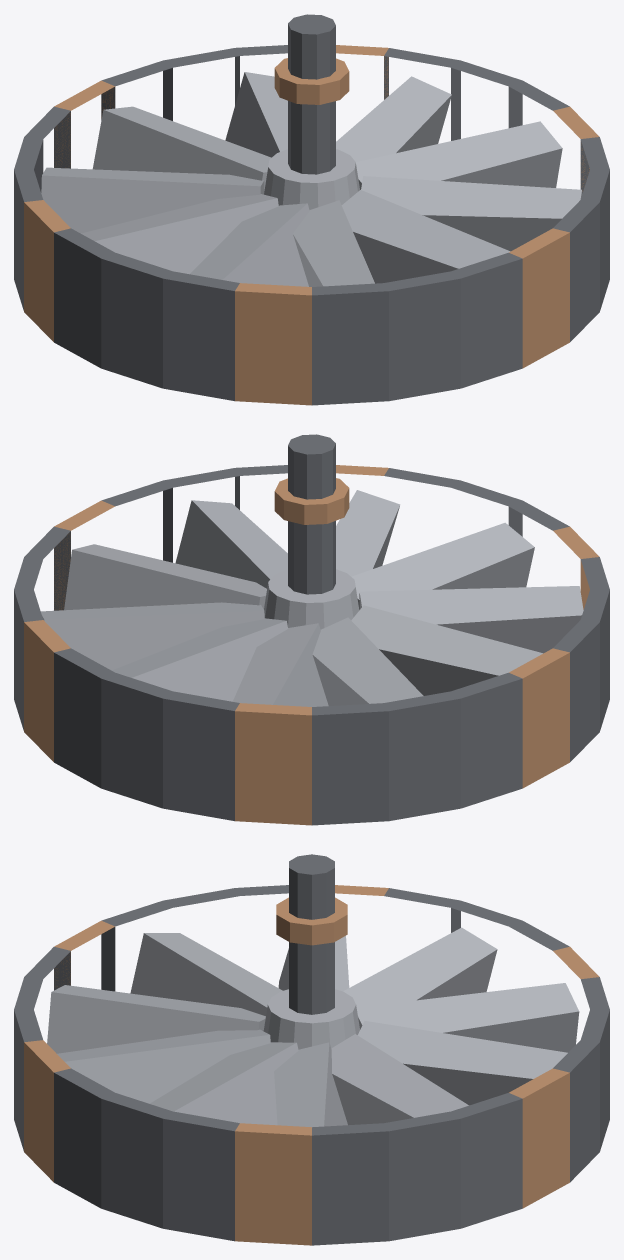
Rendered from spl_turbine.glb.
3 views of the same model, one above another, from view 1: azimuth 30°, elevation 25°; view 2: azimuth 150°, elevation 25°; view 3: azimuth 270°, elevation 25° (orthographic).
Visible parts, largest first — view 1: spl_turbine; view 2: spl_turbine; view 3: spl_turbine.
Boxes of the visible parts, bbox=[...] form: spl_turbine: bbox=[14, 14, 609, 405]; spl_turbine: bbox=[14, 434, 609, 825]; spl_turbine: bbox=[14, 854, 609, 1245].
Size of the model in its own units: 5.4 by 2.7 by 5.4.
